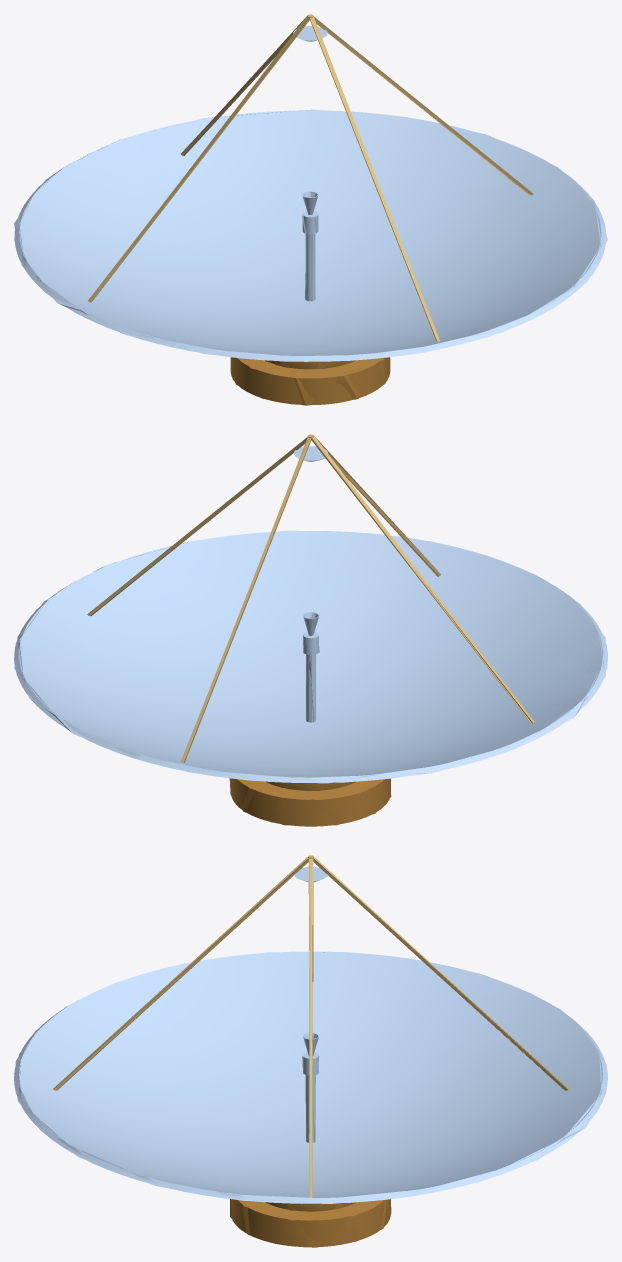
The model's file is Radio_Dish_Earth.glb.
3 renders of one model, top to bottom at view 1: azimuth 30°, elevation 25°; view 2: azimuth 150°, elevation 25°; view 3: azimuth 270°, elevation 25°, orthographic.
Parts seen in each view (by area): view 1: RadioDish-Earth.002, RadioDish-Earth.001, RadioDish-Earth, RadioDish-Earth-Base, RadioDish-Earth-Base.002, RadioDish-Earth-Base.001; view 2: RadioDish-Earth.002, RadioDish-Earth.001, RadioDish-Earth, RadioDish-Earth-Base, RadioDish-Earth-Base.001, RadioDish-Earth-Base.002; view 3: RadioDish-Earth.002, RadioDish-Earth.001, RadioDish-Earth, RadioDish-Earth-Base, RadioDish-Earth-Base.002, RadioDish-Earth-Base.001.
Part boxes in pixels (bbox=[...]): RadioDish-Earth.002: bbox=[14, 16, 607, 361]; RadioDish-Earth.001: bbox=[14, 14, 604, 361]; RadioDish-Earth: bbox=[14, 14, 606, 361]; RadioDish-Earth-Base: bbox=[230, 357, 389, 404]; RadioDish-Earth-Base.002: bbox=[231, 357, 385, 405]; RadioDish-Earth-Base.001: bbox=[232, 357, 390, 404]; RadioDish-Earth.002: bbox=[14, 436, 605, 783]; RadioDish-Earth.001: bbox=[14, 434, 607, 782]; RadioDish-Earth: bbox=[14, 434, 607, 782]; RadioDish-Earth-Base: bbox=[231, 778, 390, 826]; RadioDish-Earth-Base.001: bbox=[232, 778, 389, 826]; RadioDish-Earth-Base.002: bbox=[229, 778, 391, 825]; RadioDish-Earth.002: bbox=[15, 857, 606, 1203]; RadioDish-Earth.001: bbox=[14, 855, 607, 1203]; RadioDish-Earth: bbox=[14, 855, 607, 1203]; RadioDish-Earth-Base: bbox=[231, 1199, 390, 1246]; RadioDish-Earth-Base.002: bbox=[230, 1199, 387, 1247]; RadioDish-Earth-Base.001: bbox=[231, 1199, 391, 1247].
Size of what is drawn, in the model's own units: 15.9 by 10.5 by 15.83.
